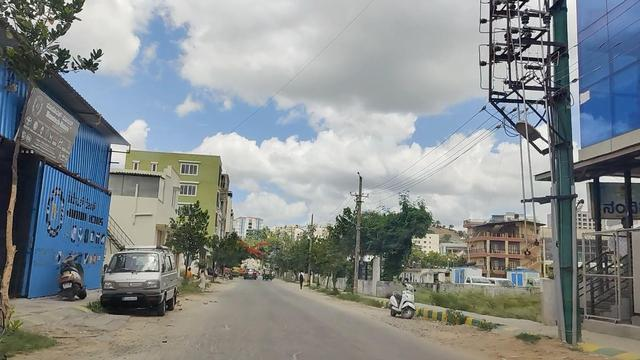LMV: (105, 248, 158, 312), (388, 273, 415, 317)
